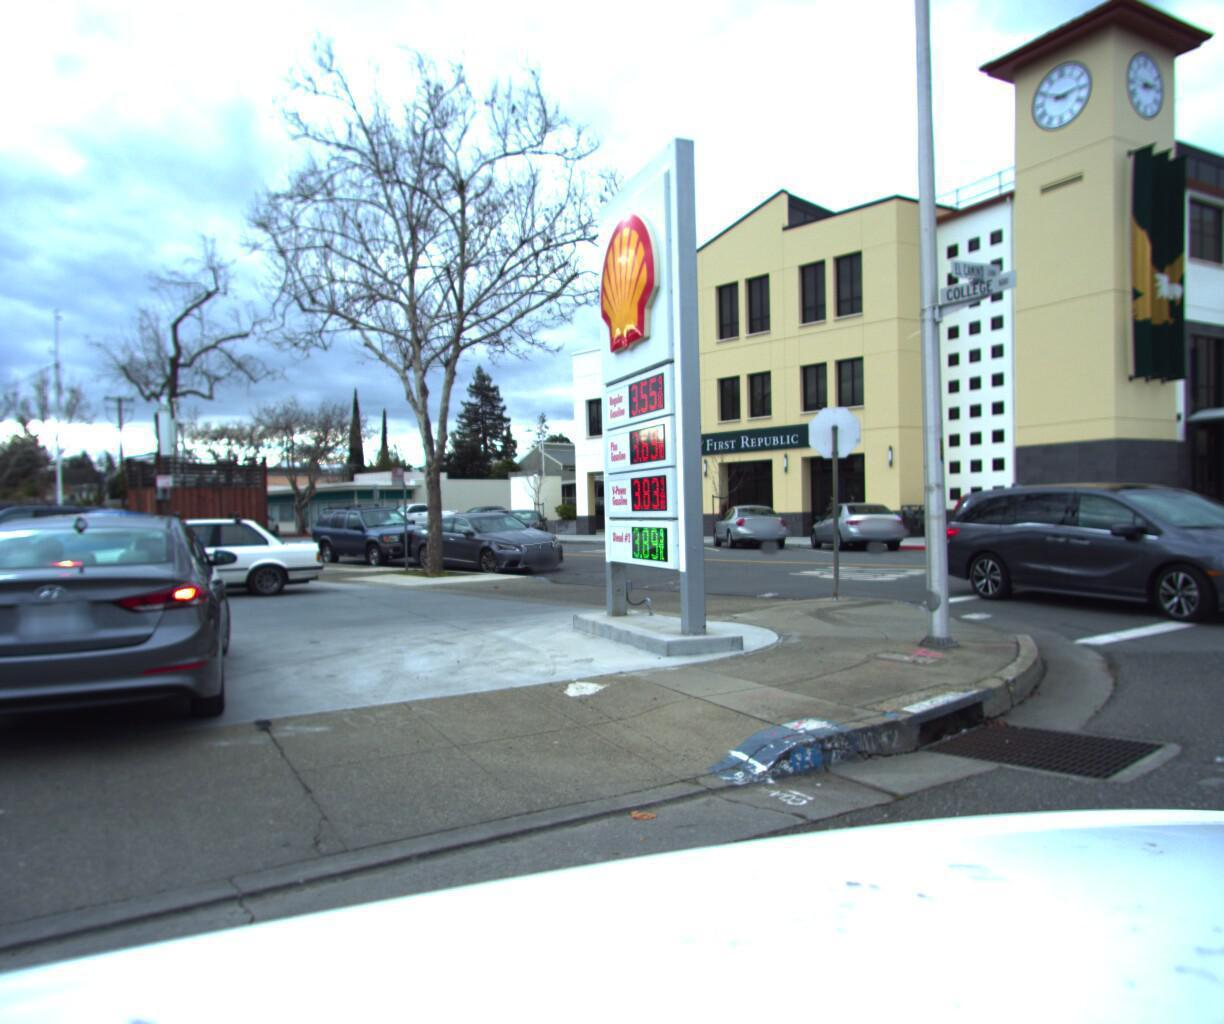car: (0, 499, 225, 782), (934, 467, 1224, 629), (33, 498, 336, 605), (0, 498, 259, 589), (403, 499, 578, 573), (0, 492, 141, 571), (306, 492, 450, 565), (0, 495, 108, 555), (813, 492, 913, 548), (709, 494, 798, 544), (371, 494, 463, 526), (498, 500, 552, 538)
